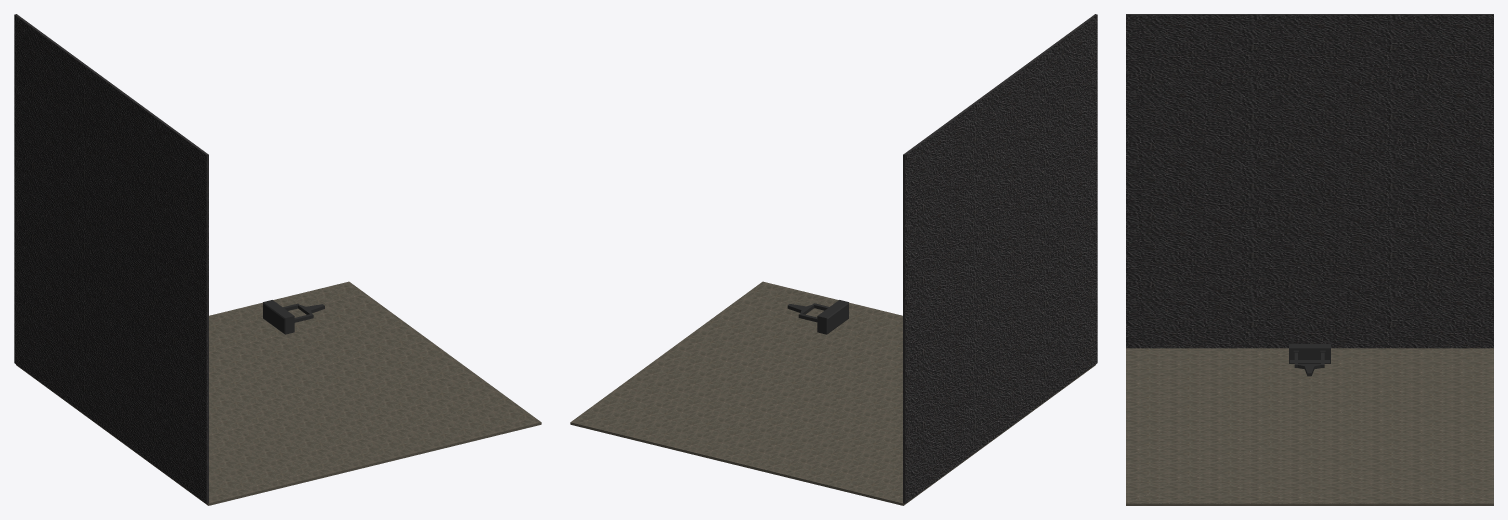
File: Wall+Floor+Pushplate 1.fbx
The picture shows the model from 3 angles, left to right: view 1: azimuth 30°, elevation 25°; view 2: azimuth 150°, elevation 25°; view 3: azimuth 270°, elevation 25°; orthographic projection. The views are drawn at different scales.
Visible parts, largest first — view 1: pPlane2, pPlane1, Push_plate; view 2: pPlane2, pPlane1, Push_plate; view 3: pPlane2, pPlane1, Push_plate.
Boxes of the visible parts, x1,y1,x2,y2 form: pPlane2: [14, 14, 208, 503]; pPlane1: [16, 281, 541, 505]; Push_plate: [263, 300, 324, 334]; pPlane2: [903, 14, 1097, 503]; pPlane1: [570, 281, 1095, 505]; Push_plate: [787, 300, 848, 334]; pPlane2: [1126, 14, 1493, 348]; pPlane1: [1126, 348, 1493, 505]; Push_plate: [1289, 344, 1330, 376].
Size of the model in its own units: 1.3 by 1.3 by 1.29.
Materials: 3 (2 with a texture image).
